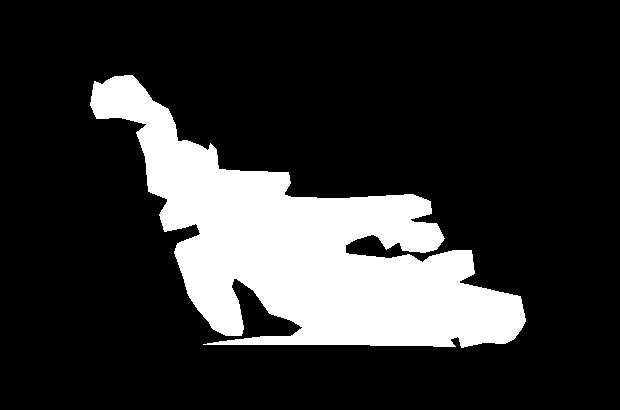type2: (87, 73, 528, 349)
